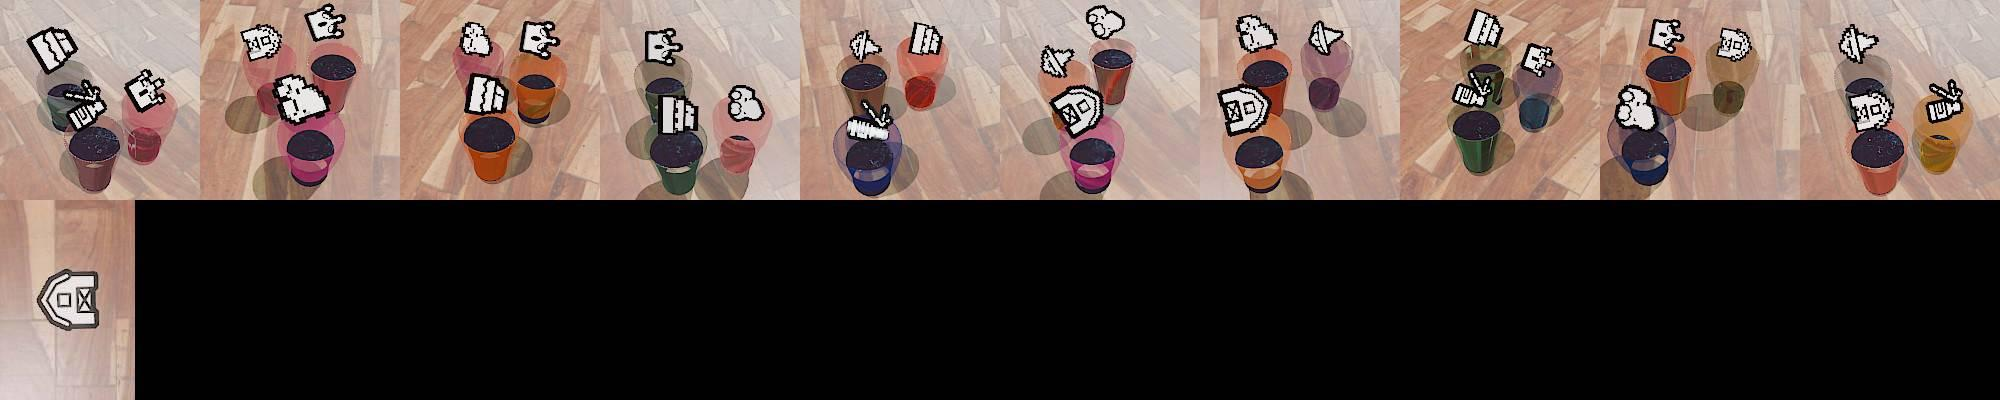icon: (36, 268, 102, 332), (270, 73, 330, 125), (1050, 84, 1103, 140), (1217, 83, 1269, 136), (26, 25, 79, 76), (59, 78, 108, 132), (463, 71, 510, 117), (1846, 88, 1894, 131), (124, 68, 168, 113), (1615, 83, 1658, 130), (656, 92, 700, 136), (302, 3, 347, 43), (240, 22, 284, 62), (1925, 78, 1964, 122), (1236, 14, 1278, 55), (1464, 8, 1505, 50), (519, 19, 562, 59), (1838, 23, 1879, 64), (643, 27, 682, 65), (1084, 4, 1125, 39), (1450, 76, 1494, 110), (727, 84, 764, 122), (1307, 19, 1344, 56), (1648, 18, 1685, 55), (458, 20, 494, 59), (844, 116, 890, 145), (1716, 25, 1753, 61), (1519, 42, 1555, 78), (909, 20, 944, 57), (1040, 43, 1075, 78), (848, 29, 883, 60)
